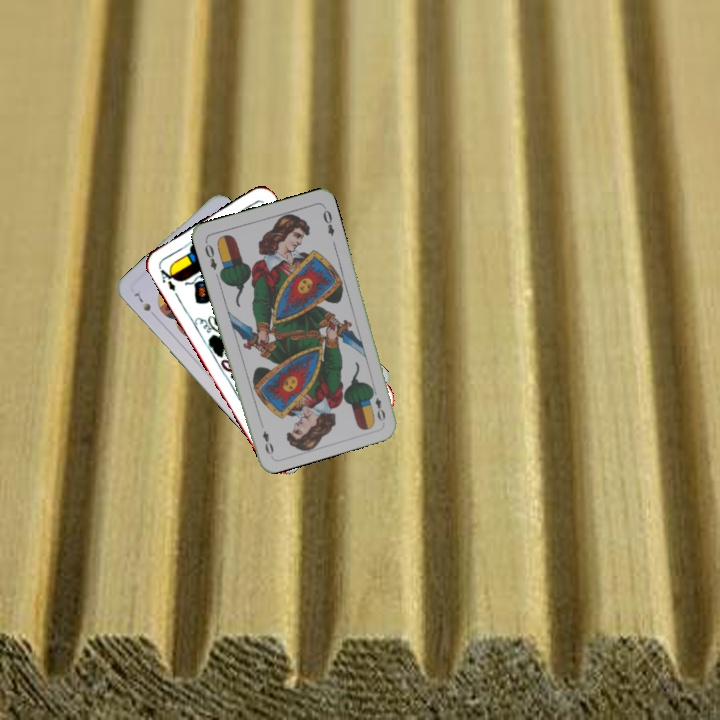EA: (154, 262, 180, 294)
EO: (367, 385, 388, 424), (201, 237, 220, 272)
S7: (130, 288, 154, 314)
